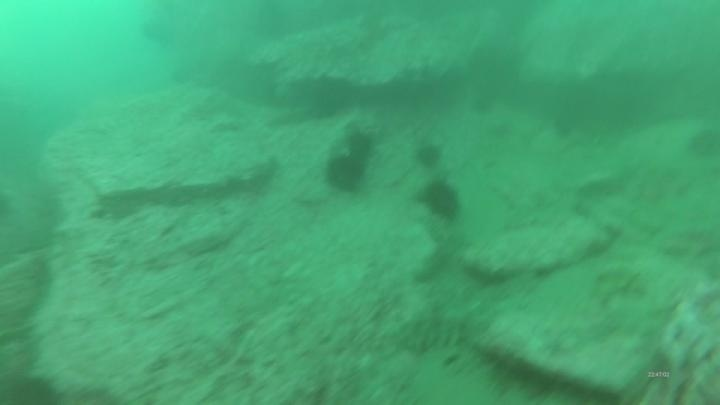echinus: (305, 78, 356, 122), (418, 177, 464, 223), (1, 371, 63, 404), (323, 151, 368, 195), (684, 125, 720, 162), (342, 127, 377, 162), (412, 140, 445, 171)
holothurian: (388, 305, 483, 356)
